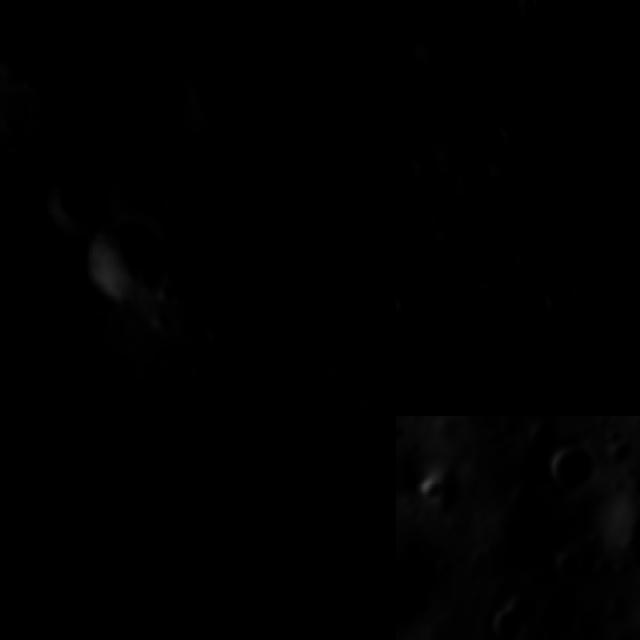crater: (109, 562, 250, 640), (72, 222, 172, 302), (286, 427, 358, 501), (41, 166, 116, 234), (0, 0, 46, 98), (199, 490, 267, 556), (44, 525, 110, 590), (598, 493, 640, 582), (539, 445, 603, 501), (479, 595, 548, 640), (516, 104, 569, 160), (55, 572, 109, 626), (467, 0, 530, 43), (609, 236, 640, 319), (0, 416, 48, 457), (164, 544, 205, 586), (476, 119, 513, 165), (355, 376, 393, 415), (360, 51, 396, 91), (0, 482, 36, 522), (414, 471, 450, 510), (524, 288, 559, 328), (183, 354, 219, 391), (203, 317, 234, 348), (528, 416, 599, 429), (0, 510, 13, 570), (301, 303, 328, 328), (379, 0, 396, 36), (396, 293, 410, 329), (396, 392, 411, 416)
